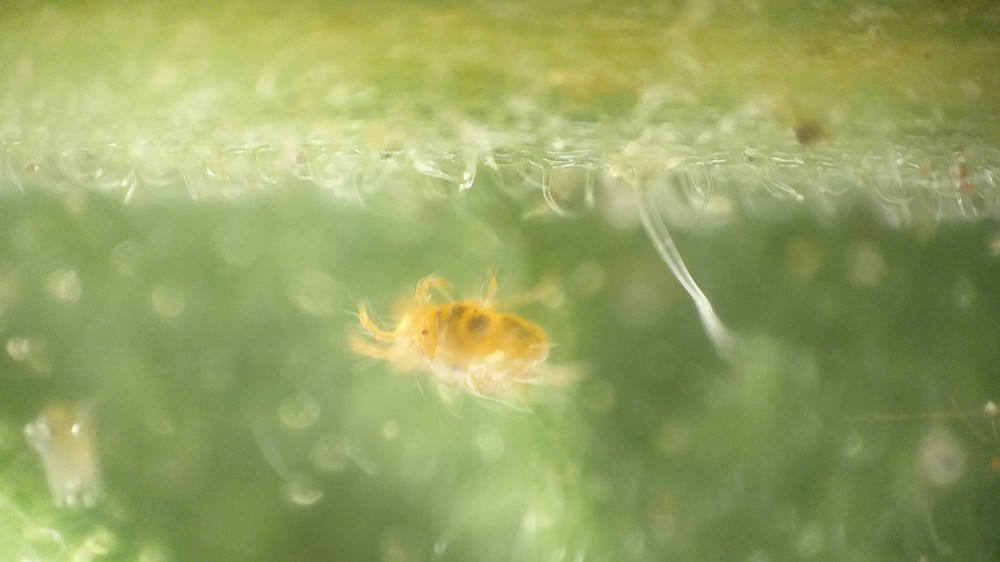Aracnido Rojo: (335, 247, 616, 439)
